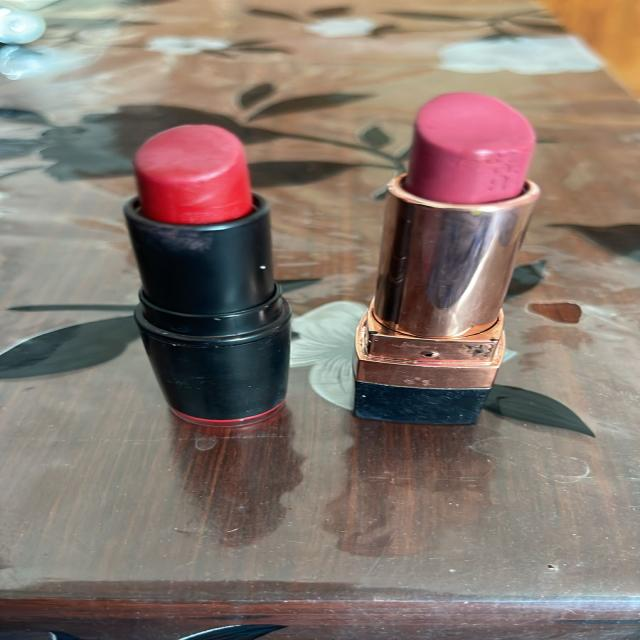lip stick: (348, 81, 562, 427), (101, 111, 313, 444)
